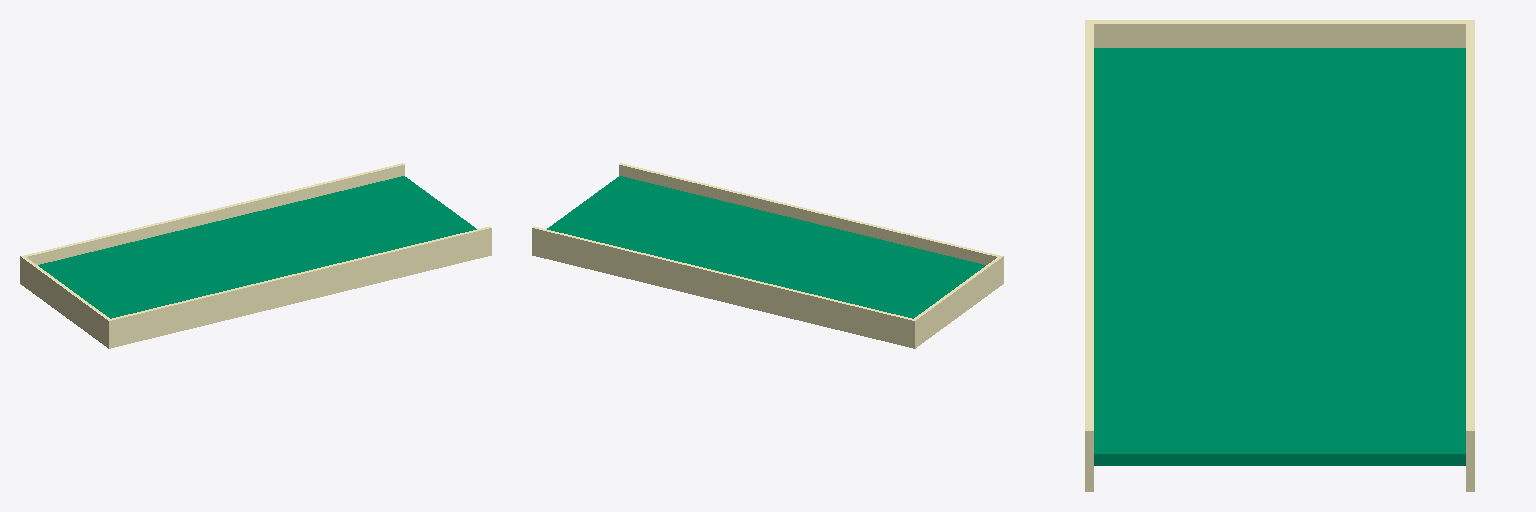
The robot description file, URDF, robot "right-pull-door":
<?xml version="1.0" ?>
<robot name="right-pull-door">
	<link name="base"/>
	<link name="link_0">
		<visual name="out-frame">
			<origin xyz="0 0 0"/>
			<geometry>
				<mesh filename="texture_dae/frame.dae" scale="1.0032306484738107 1.0032306484738107 1.0032306484738107"/>
			</geometry>
		</visual>
		<collision>
			<origin xyz="0 0 0"/>
			<geometry>
				<mesh filename="texture_dae/frame.dae" scale="1.0032306484738107 1.0032306484738107 1.0032306484738107"/>
			</geometry>
		</collision>
	</link>
	<joint name="joint_0" type="fixed">
		<origin rpy="1.570796326794897 0 -1.570796326794897" xyz="0 0 0"/>
		<child link="link_0"/>
		<parent link="base"/>
	</joint>
	<link name="link_1">
		<visual name="surf-board">
			<origin xyz="0.33967945541087496 -0.8713100236520611 0"/>
			<geometry>
				<mesh filename="texture_dae/board.dae" scale="1.0032306484738107 1.0032306484738107 1.0032306484738107"/>
			</geometry>
		</visual>
		<collision>
			<origin xyz="0.33967945541087496 -0.8713100236520611 0"/>
			<geometry>
				<mesh filename="texture_dae/board.dae" scale="1.0032306484738107 1.0032306484738107 1.0032306484738107"/>
			</geometry>
		</collision>
	</link>
	<joint name="joint_1" type="revolute">
		<origin xyz="-0.33967945541087496 0.8713100236520611 0"/>
		<axis xyz="0 -1 0"/>
		<child link="link_1"/>
		<parent link="link_0"/>
		<limit lower="0" upper="1.5079644737231006"/>
	</joint>
	<link name="link_2">
		<visual name="handle">
			<origin xyz="0 0 0"/>
			<geometry>
				<mesh filename="texture_dae/9960001.dae" scale="0.8953053054051062 0.8953053054051062 0.8953053054051062"/>
			</geometry>
		</visual>
		<collision>
			<origin xyz="0 0 0"/>
			<geometry>
				<mesh filename="texture_dae/9960001.dae" scale="0.8953053054051062 0.8953053054051062 0.8953053054051062"/>
			</geometry>
		</collision>
	</link>
	<joint name="joint_2" type="revolute">
		<origin xyz="0.599474465703611 -0.96005084520364 0.012032082220961096"/>
		<child link="link_2"/>
		<parent link="link_1"/>
		<axis xyz="0 0 1"/>
		<limit lower="0" upper="1.5079644737231006"/>
	</joint>
</robot>

--- Facts derived from the render (not from the file) ---
3 views of the same robot in one strip: view 1: azimuth 30°, elevation 25°; view 2: azimuth 150°, elevation 25°; view 3: azimuth 270°, elevation 25° (orthographic).
Robot: right-pull-door — 4 links, 3 joints (2 revolute, 1 fixed); root link base; default pose: all joints at 0.
Links seen in each view (by area): view 1: link_1, link_0; view 2: link_1, link_0; view 3: link_1, link_0.
Boxes of the visible links, x1,y1,x2,y2 form: link_1: (38, 176, 476, 318); link_0: (20, 163, 491, 348); link_1: (547, 176, 985, 318); link_0: (532, 163, 1003, 348); link_1: (1094, 48, 1465, 465); link_0: (1085, 20, 1474, 491).
Bounding box of the posed robot: 1.78 × 0.7122 × 0.1228 m (x, y, z).
Meshes: 3 distinct files referenced, 2 mesh visuals loaded (2 Collada DAE); not drawn: 1 (file found but could not be loaded).
